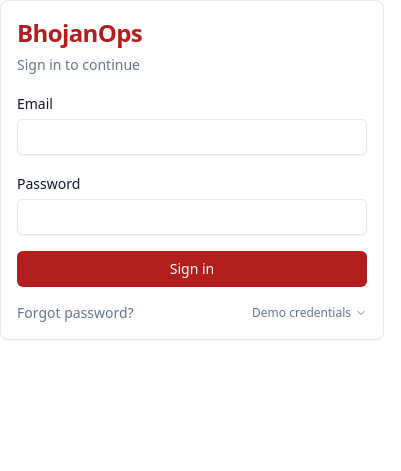
Test case: LoginForm › clicking a demo role fills the inputs
Click the button "Demo credentials". click: click(310, 313)
box: [252,305,367,321]
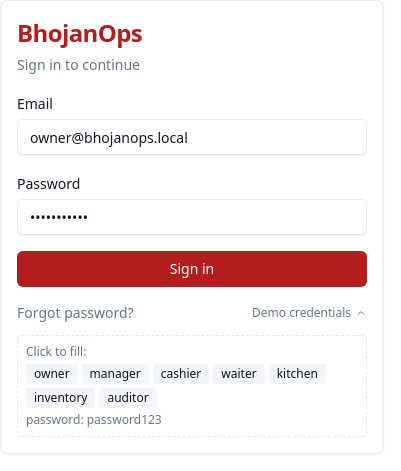
Click the button "cashier". click: click(181, 374)
box: [153,364,209,384]
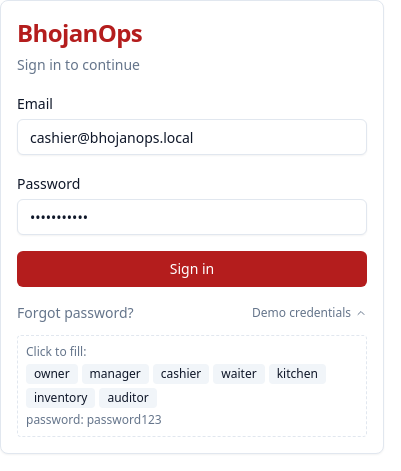
Check: the password field labelled "Password" holds "password123", box [17,199,367,235]
Check: the field labelled "Email" holds "cashier@bhojanops.local", box [17,119,367,155]
